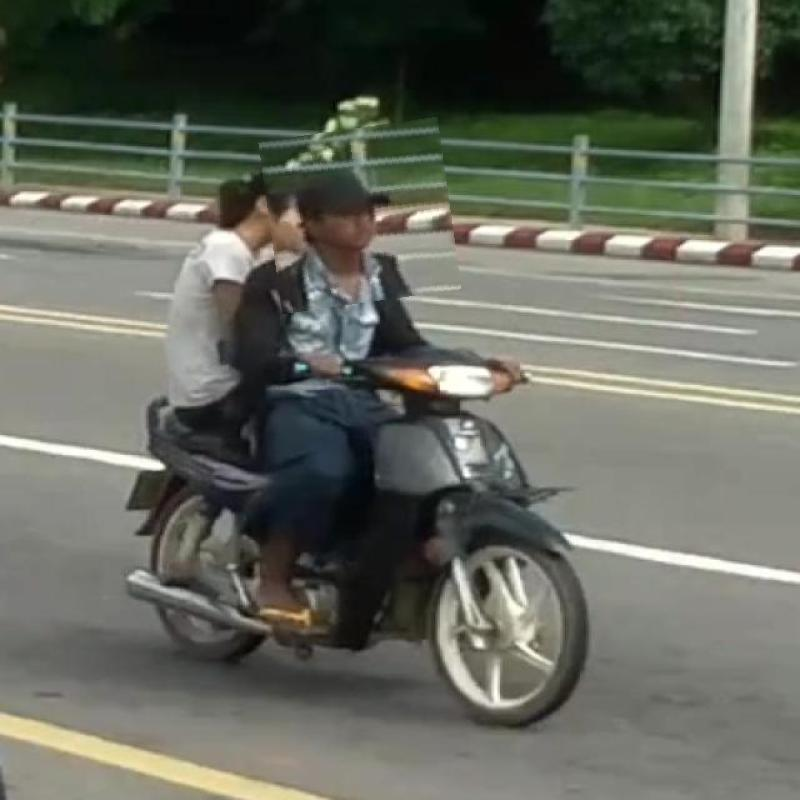nohelmet: (264, 123, 456, 309)
